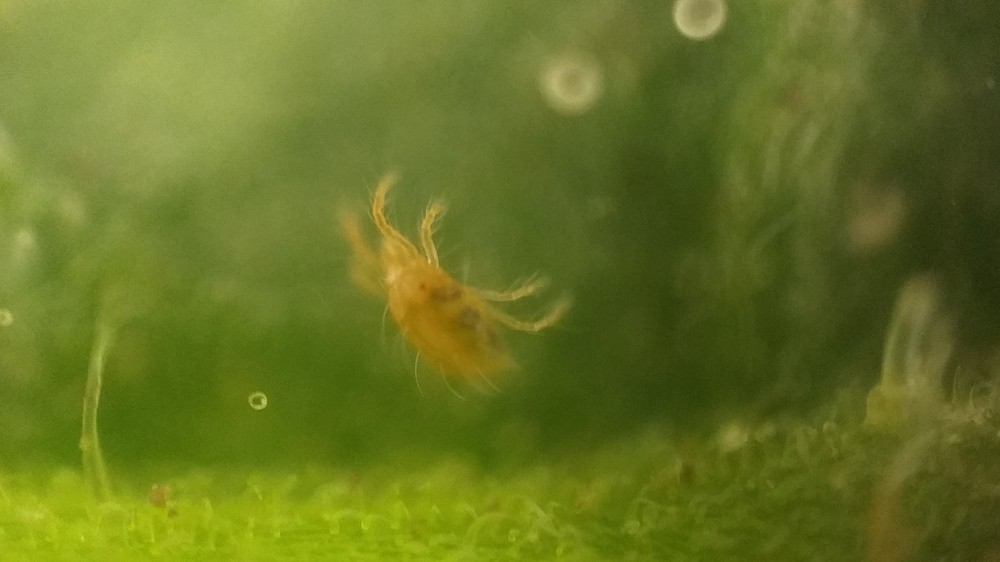Aracnido Rojo: (320, 164, 588, 411)
